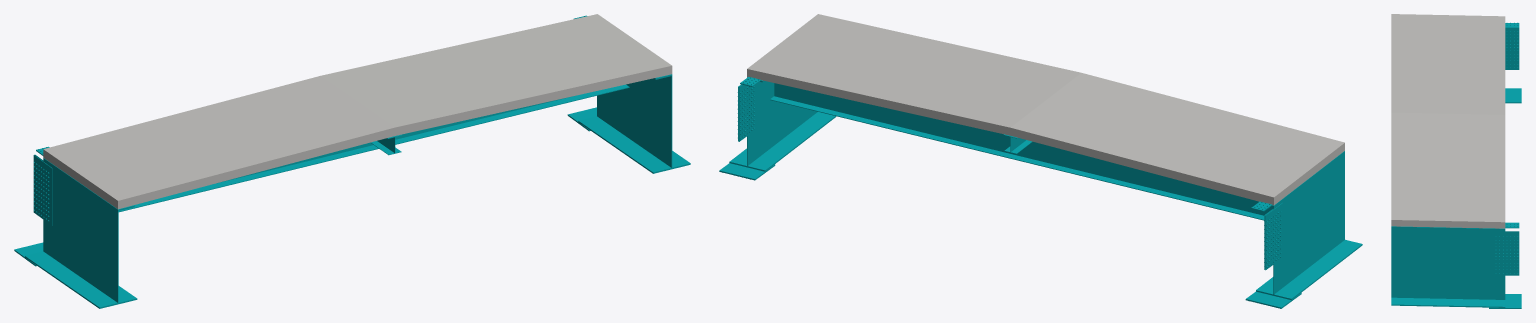
Rendered from DECK_KS_S.glb.
3 renders of one model, left to right at view 1: azimuth 30°, elevation 25°; view 2: azimuth 150°, elevation 25°; view 3: azimuth 270°, elevation 25°, orthographic. The views are drawn at different scales.
Parts seen in each view (by area): view 1: KS_S_Slab_7, KS_S_G_W_0, KS_S_G_E_1, KS_S_FB_bf_6, KS_S_SpliceW_9, KS_S_FB_web_3; view 2: KS_S_Slab_7, KS_S_FB_web_3, KS_S_G_W_0, KS_S_G_E_1, KS_S_FB_bf_6, KS_S_SpliceW_9, KS_S_SpliceW_17, KS_S_SpliceB_19, KS_S_SpliceB_11; view 3: KS_S_Slab_7, KS_S_G_E_1, KS_S_SpliceW_18, KS_S_SpliceW_10, KS_S_SpliceB_19, KS_S_SpliceB_11, KS_S_BoltW_22.
Boxes of the visible parts, <box> form: KS_S_Slab_7: <box>43,14,672,209</box>; KS_S_G_W_0: <box>25,158,137,308</box>; KS_S_G_E_1: <box>578,74,690,173</box>; KS_S_FB_bf_6: <box>118,84,629,212</box>; KS_S_SpliceW_9: <box>33,155,52,225</box>; KS_S_FB_web_3: <box>217,96,572,183</box>; KS_S_Slab_7: <box>747,14,1344,205</box>; KS_S_FB_web_3: <box>774,83,1273,215</box>; KS_S_G_W_0: <box>1256,151,1362,300</box>; KS_S_G_E_1: <box>729,77,836,171</box>; KS_S_FB_bf_6: <box>770,96,1264,220</box>; KS_S_SpliceW_9: <box>1265,203,1282,270</box>; KS_S_SpliceW_17: <box>739,84,756,141</box>; KS_S_SpliceB_19: <box>719,163,775,180</box>; KS_S_SpliceB_11: <box>1245,291,1301,308</box>; KS_S_Slab_7: <box>1391,14,1505,228</box>; KS_S_G_E_1: <box>1391,226,1505,307</box>; KS_S_SpliceW_18: <box>1491,231,1519,275</box>; KS_S_SpliceW_10: <box>1505,28,1519,69</box>; KS_S_SpliceB_19: <box>1489,294,1521,308</box>; KS_S_SpliceB_11: <box>1505,88,1521,103</box>; KS_S_BoltW_22: <box>1495,236,1518,273</box>.
Size of the model in its own units: 18.26 by 3.38 by 4.57.
